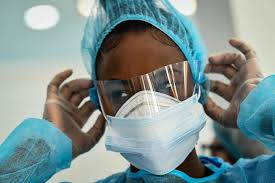masked: (86, 5, 213, 170)
